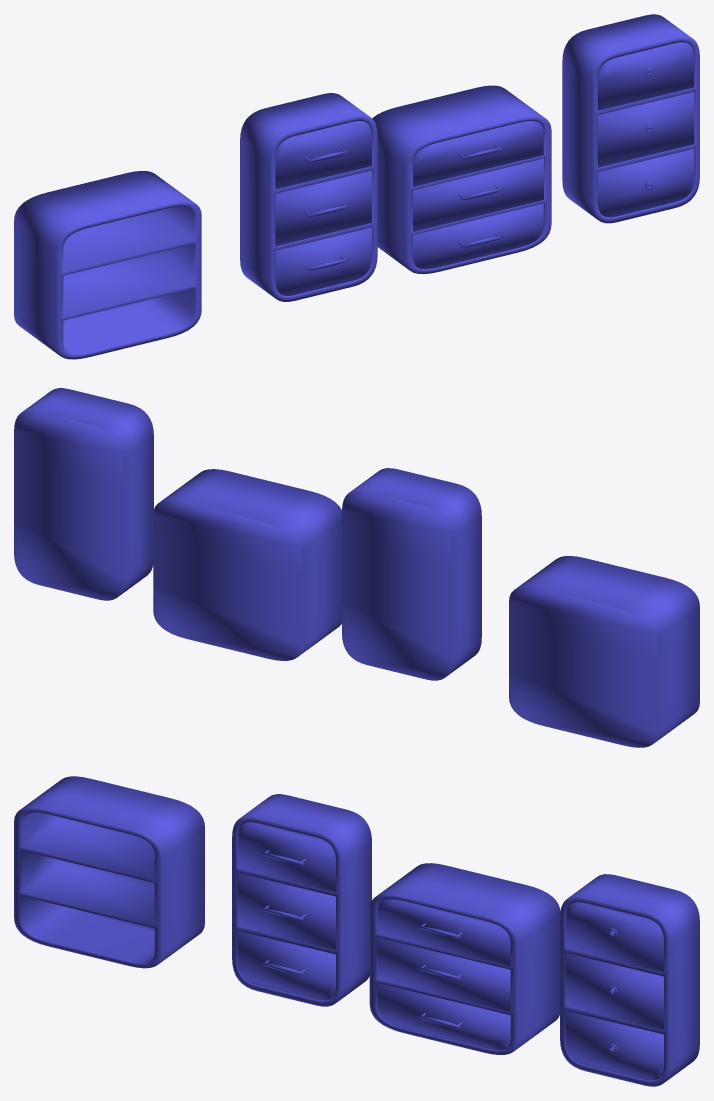
File: namestaj final final.fbx
3 views of the same model, one above another, from view 1: azimuth 30°, elevation 25°; view 2: azimuth 150°, elevation 25°; view 3: azimuth 330°, elevation 25° (orthographic).
Visible parts, largest first — view 1: Box056, Box027, Box013, Box052, Box029, Box016, Box054, Box028, Box030, Box014, Box019, Box055 (+1 smaller); view 2: Box056, Box027, Box052, Box013; view 3: Box056, Box027, Box013, Box052, Box029, Box016, Box054, Box028, Box030, Box014, Box019, Box055 (+1 smaller).
Boxes of the visible parts, x1,y1,x2,y2 form: Box056: (14, 171, 201, 359); Box027: (372, 85, 551, 274); Box013: (562, 14, 699, 223); Box052: (240, 93, 377, 301); Box029: (413, 158, 543, 231); Box016: (597, 92, 694, 167); Box054: (275, 170, 371, 246); Box028: (413, 121, 543, 186); Box030: (413, 203, 543, 269); Box014: (597, 42, 694, 110); Box019: (597, 149, 694, 217); Box055: (275, 227, 371, 295); Box056: (509, 556, 699, 747); Box027: (153, 469, 341, 660); Box052: (342, 468, 481, 680); Box013: (14, 388, 153, 600); Box056: (14, 776, 204, 968); Box027: (369, 863, 560, 1054); Box013: (560, 874, 699, 1086); Box052: (232, 794, 371, 1006); Box029: (377, 937, 510, 1011); Box016: (566, 953, 663, 1029); Box054: (238, 873, 335, 949); Box028: (377, 899, 510, 966); Box030: (377, 983, 510, 1049); Box014: (565, 902, 663, 971); Box019: (565, 1011, 663, 1080); Box055: (237, 931, 335, 1000).
Size of the model in its own units: 299 by 78.48 by 37.35.
